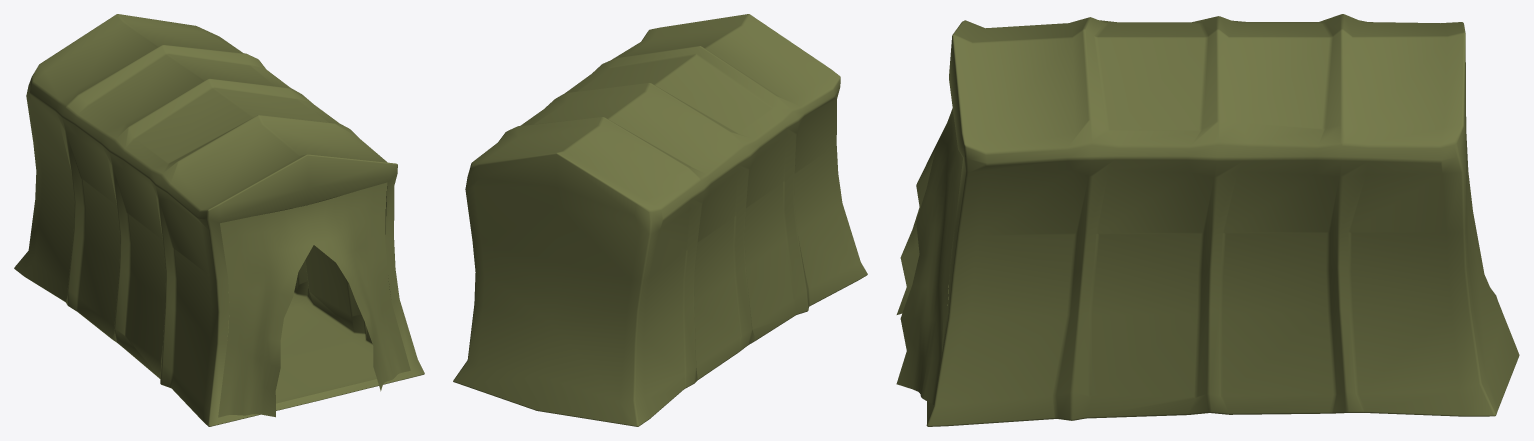
The model's file is BARRAC_Master.fbx.
3 renders of one model, left to right at view 1: azimuth 30°, elevation 25°; view 2: azimuth 150°, elevation 25°; view 3: azimuth 270°, elevation 25°, orthographic. The views are drawn at different scales.
Visible parts, largest first — view 1: Barrac; view 2: Barrac; view 3: Barrac.
Part boxes in pixels (<box>): Barrac: <box>14,14,424,426</box>; Barrac: <box>453,14,867,426</box>; Barrac: <box>896,14,1519,426</box>.
Bounding box in the file's own units: 5.64 × 6.06 × 10.45.
